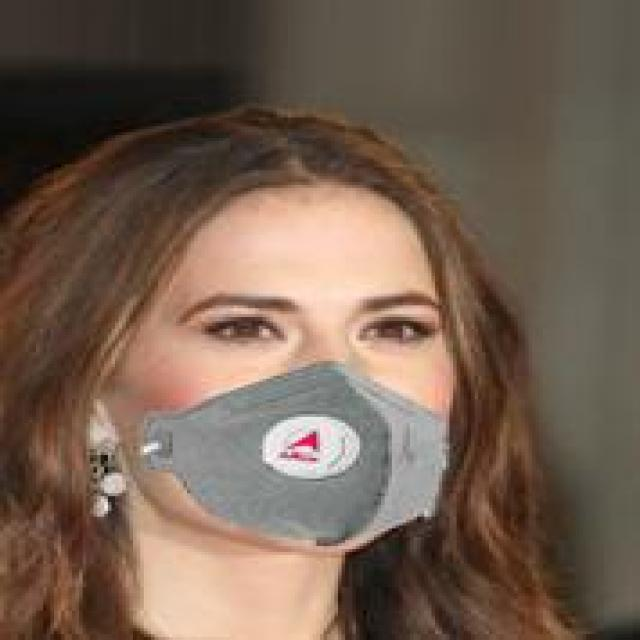mask: (54, 59, 536, 572)
